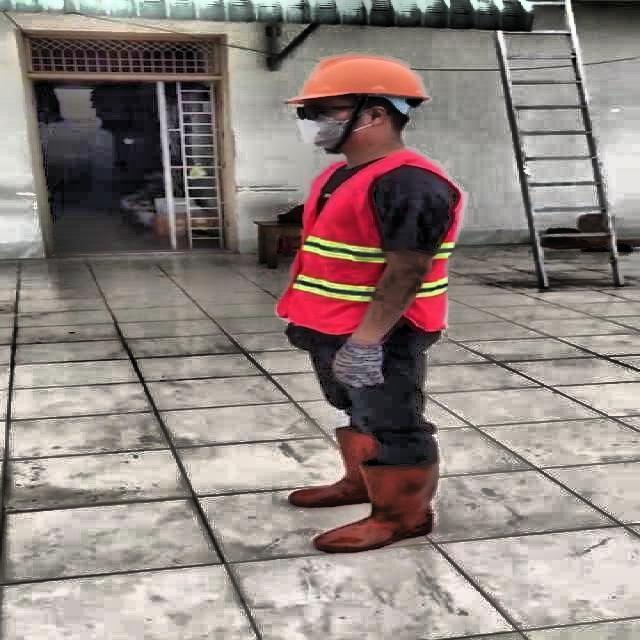safety_helmet: (288, 54, 428, 104)
safety_jacket: (282, 158, 470, 332)
